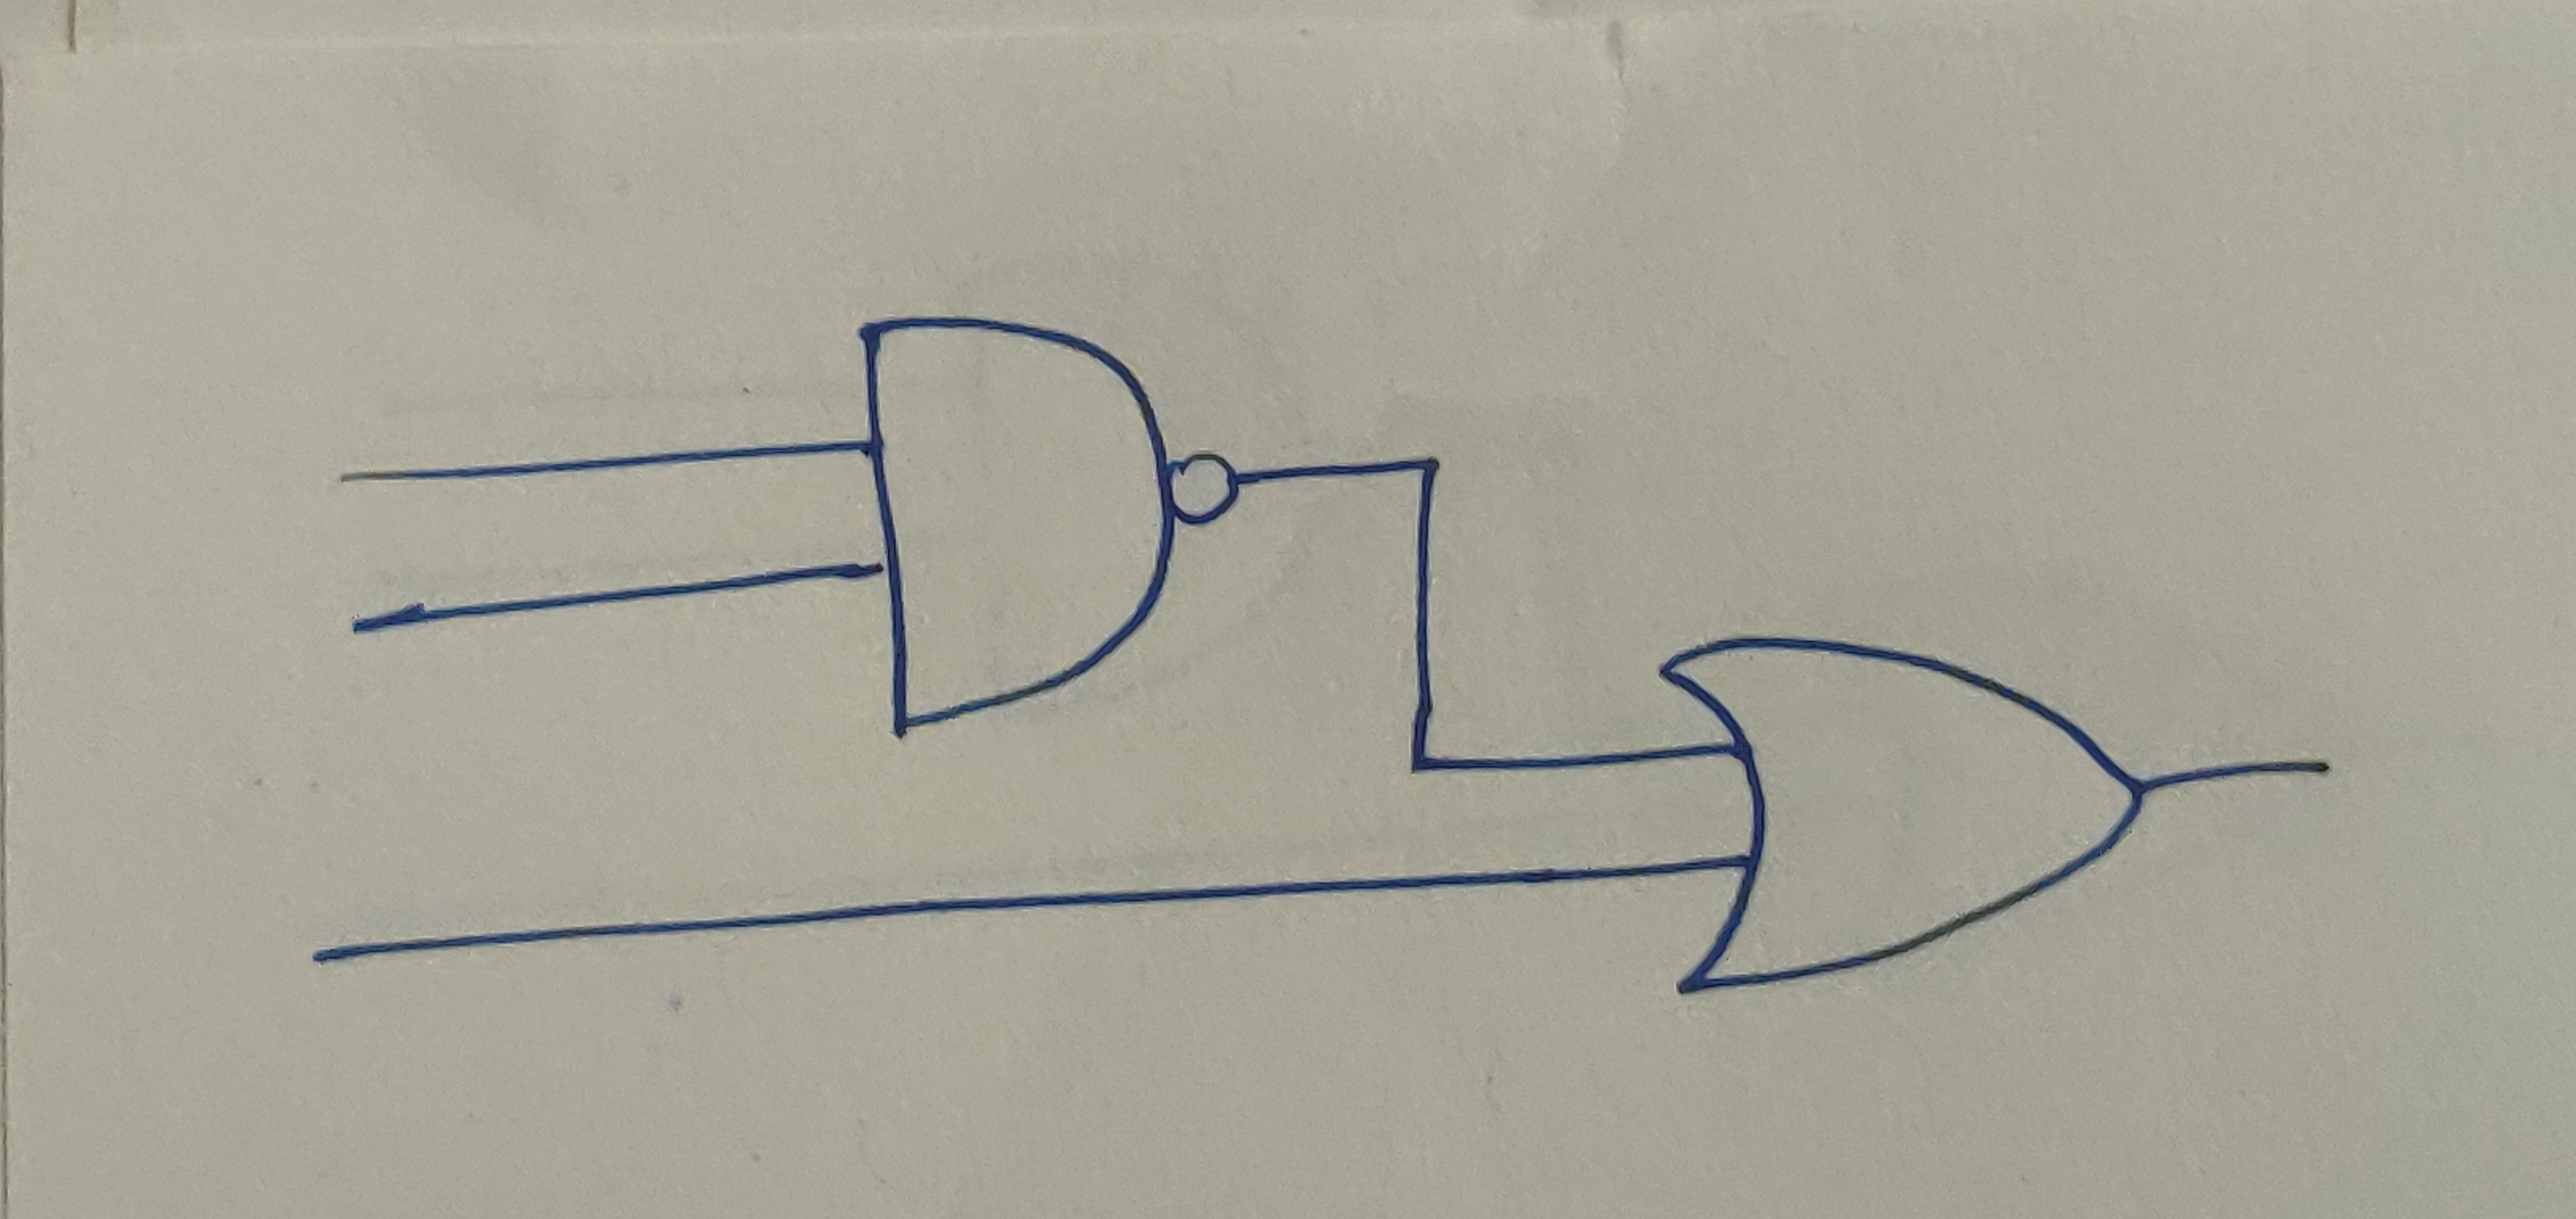and: (849, 315, 1180, 734)
not: (1170, 445, 1245, 534)
or: (1653, 632, 2147, 996)
